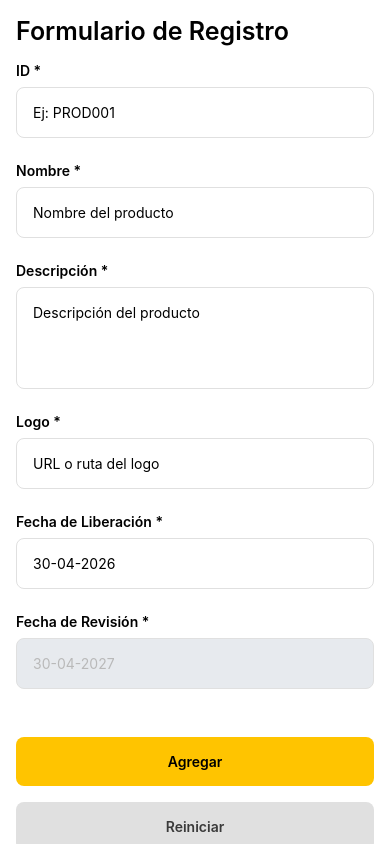
AddProductScreen › validación del formulario › debe mostrar error cuando nombre está vacío
Type "PROD001" into the field with placeholder "Ej: PROD001" at x=195, y=112, box 16,87 -> 374,138
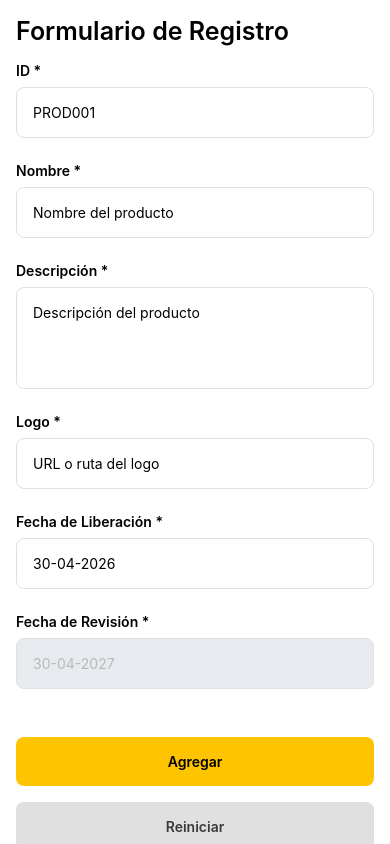
Click the text "Agregar" at x=195, y=762, box 168,753 -> 222,770
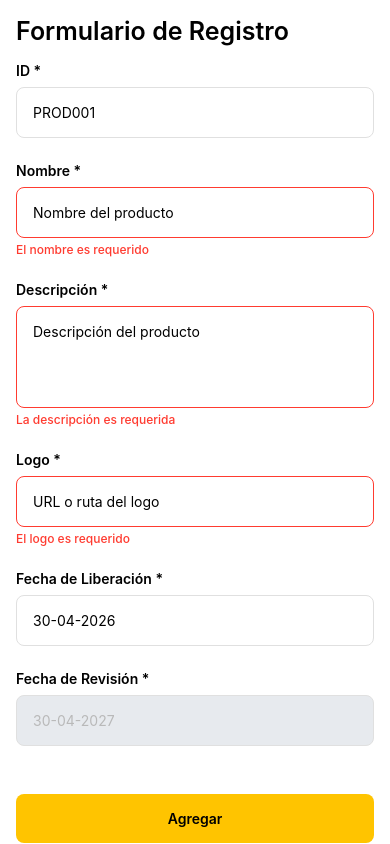
Result: the text "El nombre es requerido" is shown at 16,242 -> 149,257
